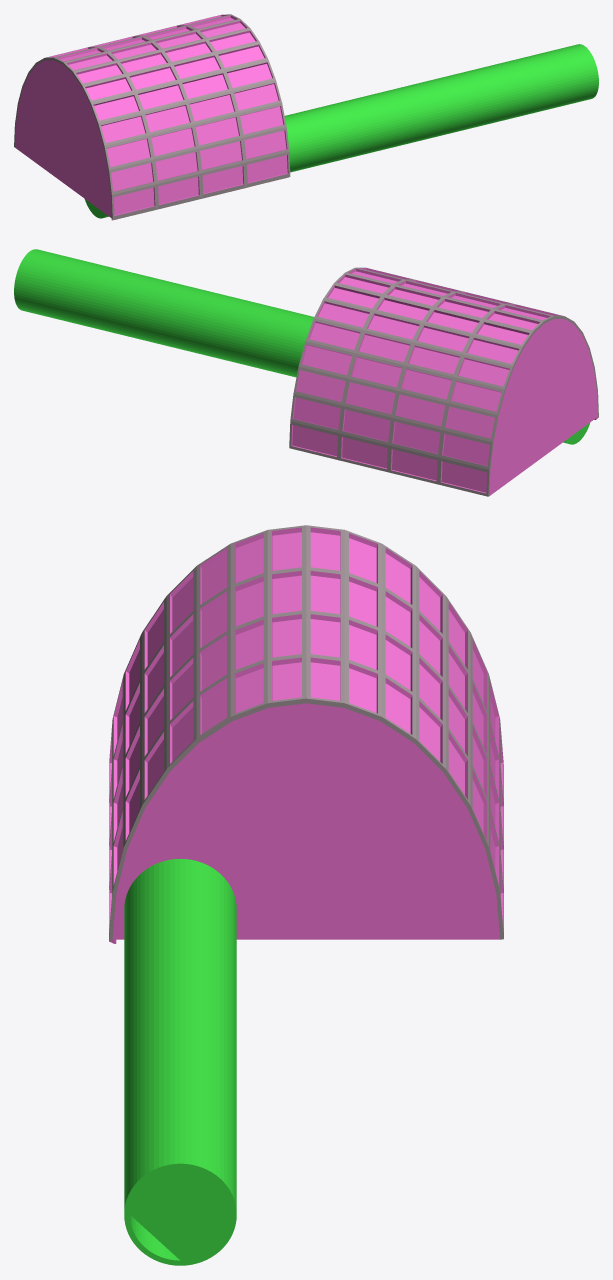
File: Stationskomponenten.fbx
3 views of the same model, one above another, from view 1: azimuth 30°, elevation 25°; view 2: azimuth 150°, elevation 25°; view 3: azimuth 270°, elevation 25° (orthographic). The views are drawn at different scales.
Visible parts, largest first — view 1: Halle, Röhre; view 2: Halle, Röhre; view 3: Halle, Röhre.
Boxes of the visible parts, left/top/right/bottom form: Halle: left=14, top=14, right=290, bottom=220; Röhre: left=84, top=44, right=598, bottom=218; Halle: left=289, top=267, right=598, bottom=496; Röhre: left=14, top=249, right=589, bottom=444; Halle: left=109, top=525, right=503, bottom=943; Röhre: left=124, top=859, right=236, bottom=1265.
Size of the model in its own units: 4006 by 1025 by 1398.
